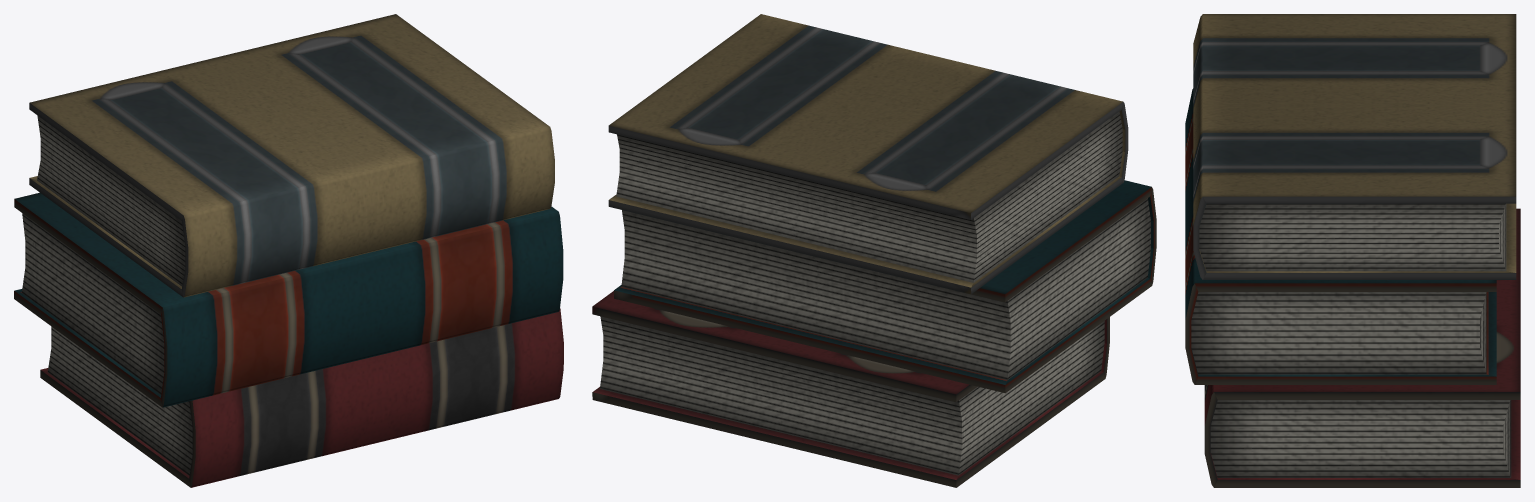
File: CI_068_books_horizontal_reversed.glb
3 renders of one model, left to right at view 1: azimuth 30°, elevation 25°; view 2: azimuth 150°, elevation 25°; view 3: azimuth 270°, elevation 25°, orthographic. The views are drawn at different scales.
Visible parts, largest first — view 1: book_1, book_3, book_2; view 2: book_1, book_3, book_2; view 3: book_1, book_2, book_3.
Part boxes in pixels (x1,y1,x2,y2): book_1: (29, 14, 554, 297); book_3: (14, 192, 563, 407); book_2: (40, 308, 563, 487); book_1: (608, 14, 1128, 294); book_3: (614, 180, 1156, 393); book_2: (592, 291, 1109, 487); book_1: (1193, 14, 1516, 279); book_2: (1204, 208, 1520, 487); book_3: (1185, 88, 1496, 384).
Size of the model in its own units: 0.7612 by 0.5021 by 0.5349.
Materials: 1 (1 with a texture image).
